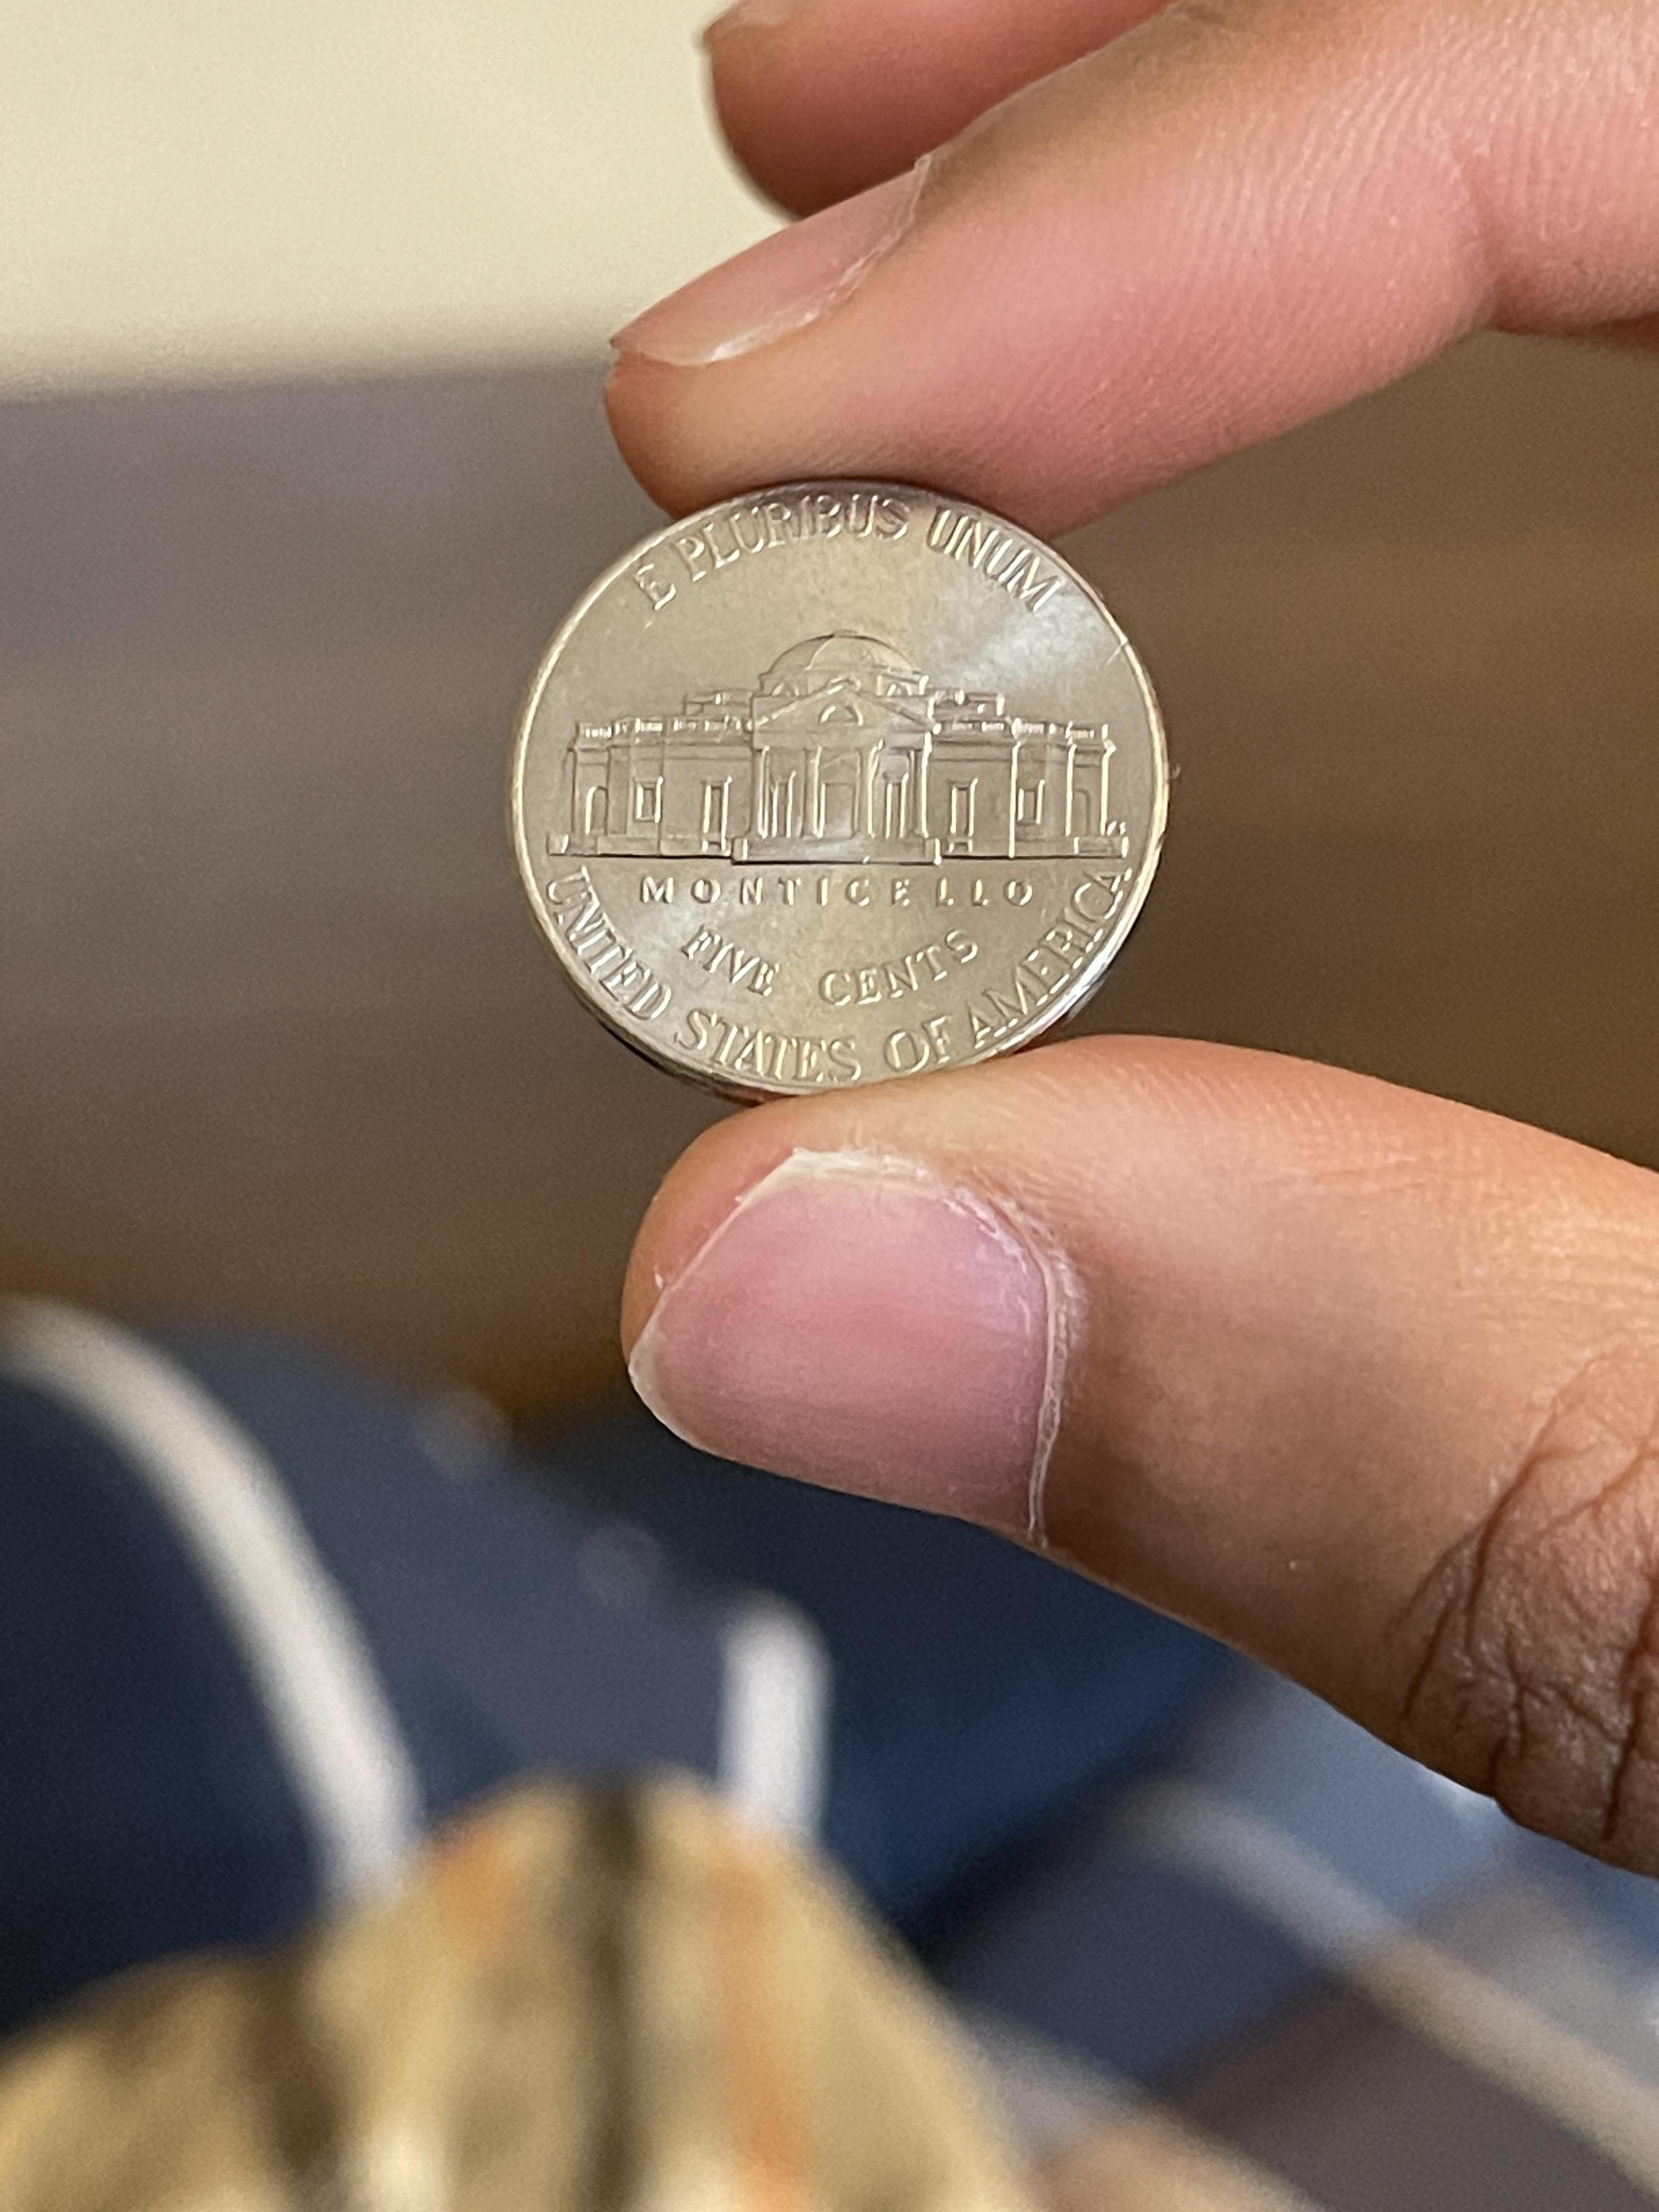Nickel: (502, 481, 1176, 1113)
